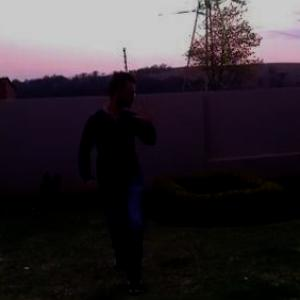follow_hand: (135, 91, 168, 124)
